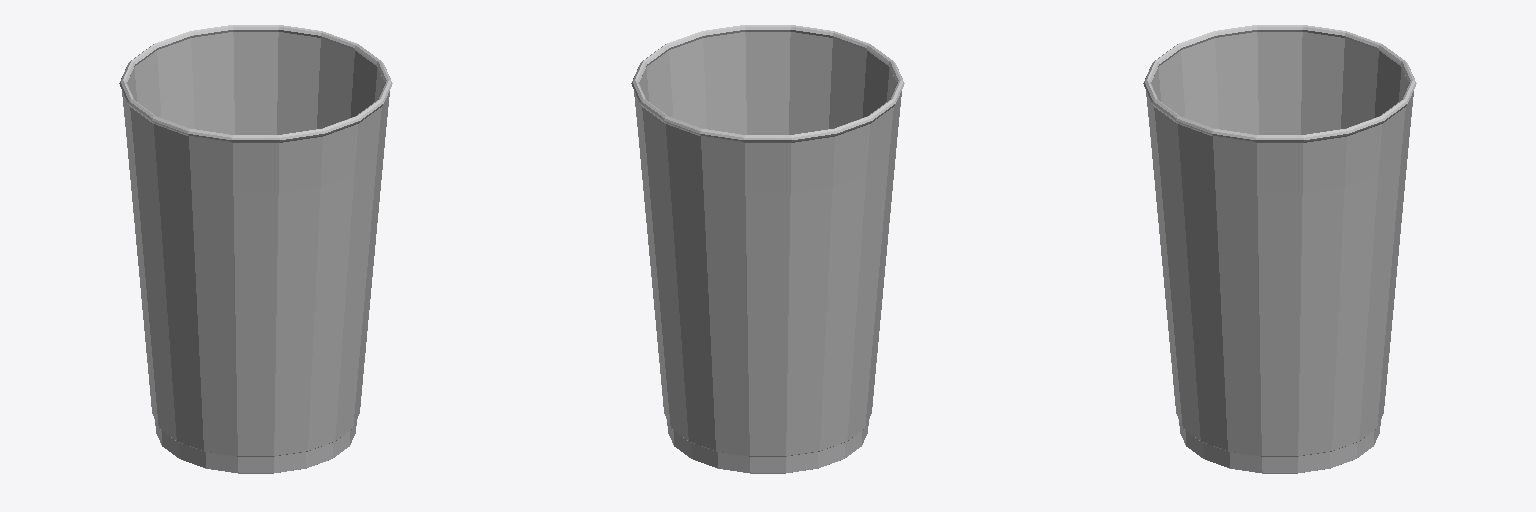
File: papercup_01.obj
The picture shows the model from 3 angles: view 1: azimuth 30°, elevation 25°; view 2: azimuth 150°, elevation 25°; view 3: azimuth 270°, elevation 25°; orthographic projection.
Visible parts, largest first — view 1: LargePMLOD1.001_Cylinder.011; view 2: LargePMLOD1.001_Cylinder.011; view 3: LargePMLOD1.001_Cylinder.011.
Part boxes in pixels (left/top/right/bottom): LargePMLOD1.001_Cylinder.011: left=119, top=25, right=392, bottom=473; LargePMLOD1.001_Cylinder.011: left=631, top=25, right=904, bottom=473; LargePMLOD1.001_Cylinder.011: left=1143, top=25, right=1416, bottom=473.
Size of the model in its own units: 0.0891 by 0.1291 by 0.0909.